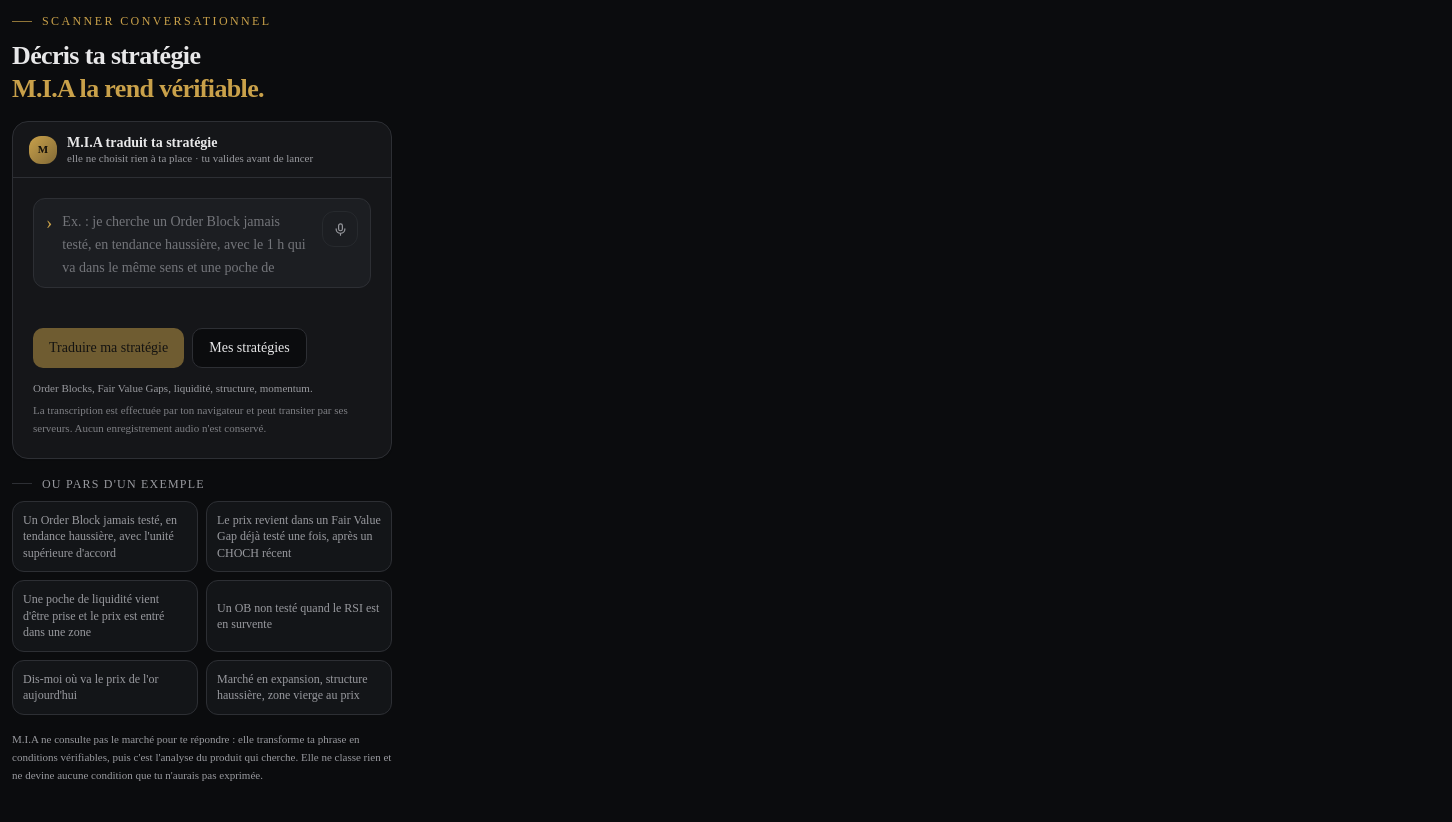
Test: SC-4 — adversarial: type then erase quickly › erasing everything clears the reading
The width and height of the screenshot is (1452, 822).
Replace the text in the text box with test id "describe-input" with "Un Order Block jamais testé en tendance haussière" at [187, 243], box x1=62 y1=211 x2=312 y2=275
Wait 2300 ms
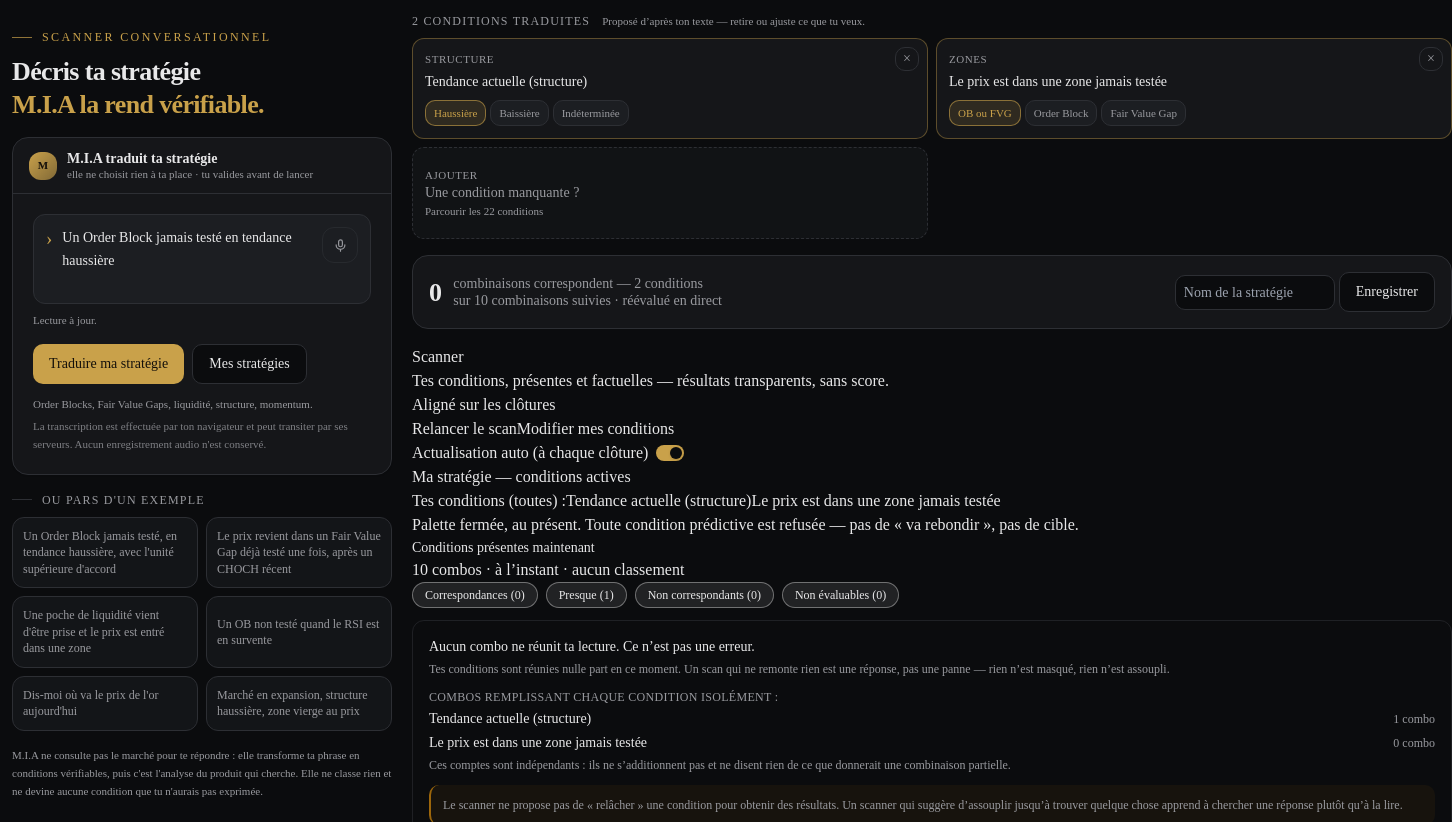
Now the number of elements with test id "translated-card" is 2, box x1=412 y1=38 x2=928 y2=139; x1=936 y1=38 x2=1451 y2=139
Clear the text box with test id "describe-input" at [187, 259], box x1=62 y1=227 x2=312 y2=291
Wait 2300 ms
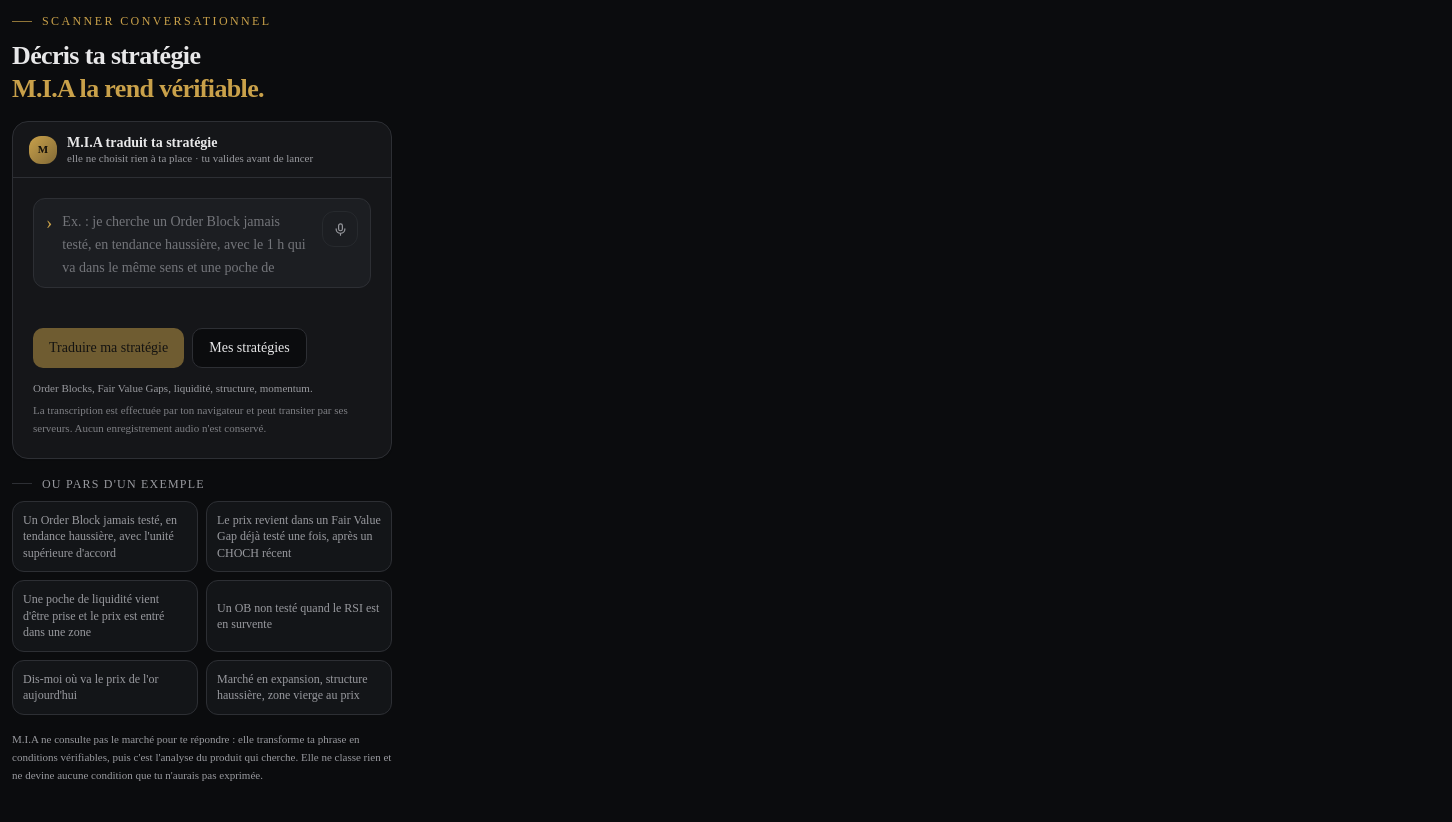
Now no elements with test id "translated-card" are shown
